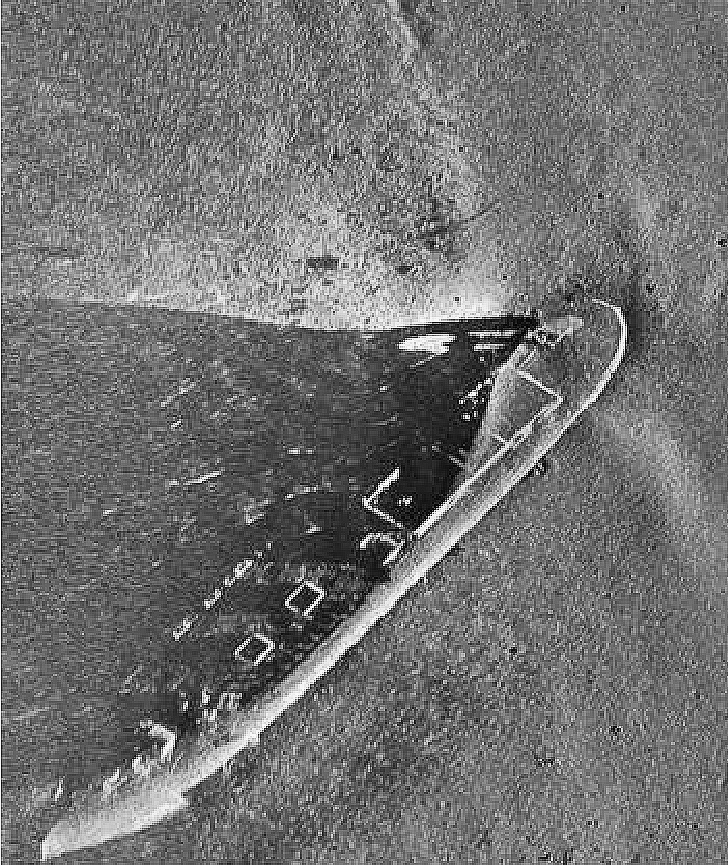ship: (40, 294, 627, 865)
